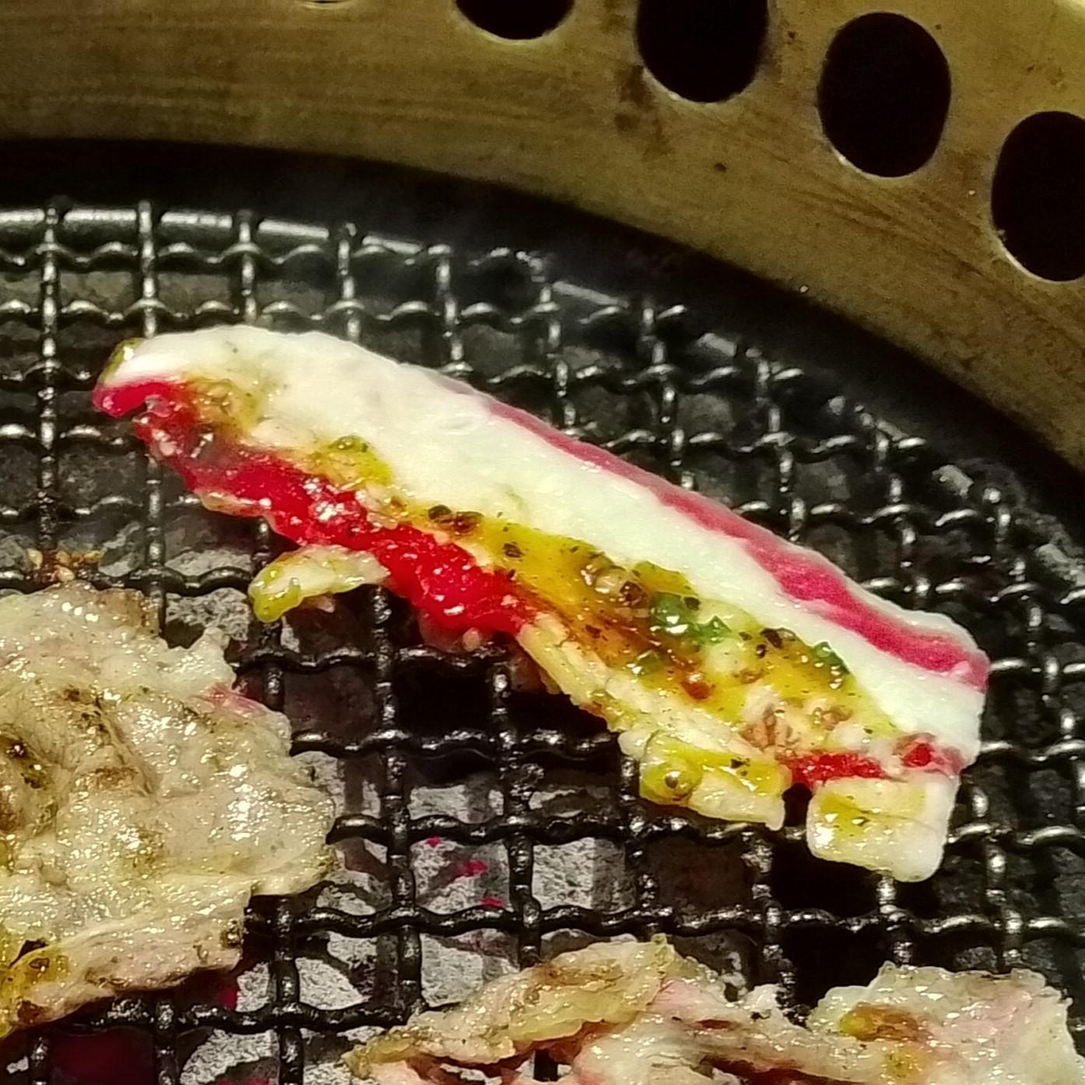Overcooked: (0, 579, 334, 1027)
Undercooked: (89, 324, 989, 887)
Well-Cooked: (351, 950, 1080, 1084)
